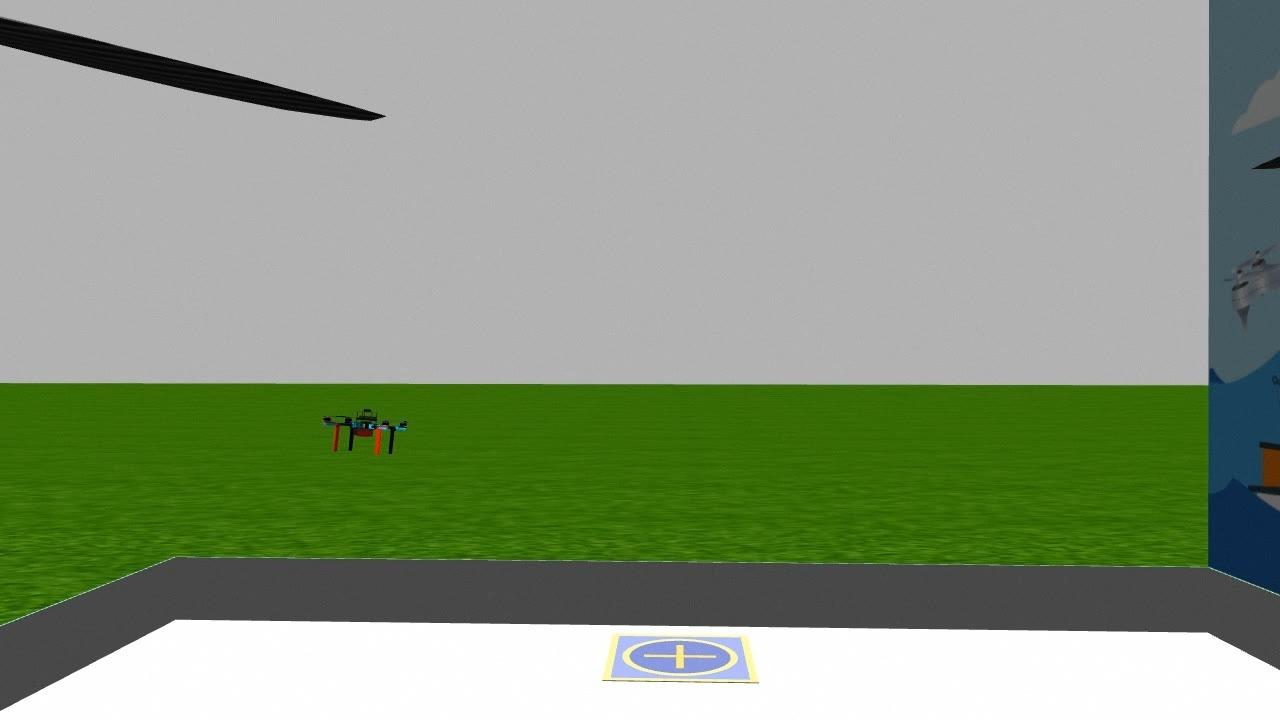UAV: (320, 404, 410, 463)
